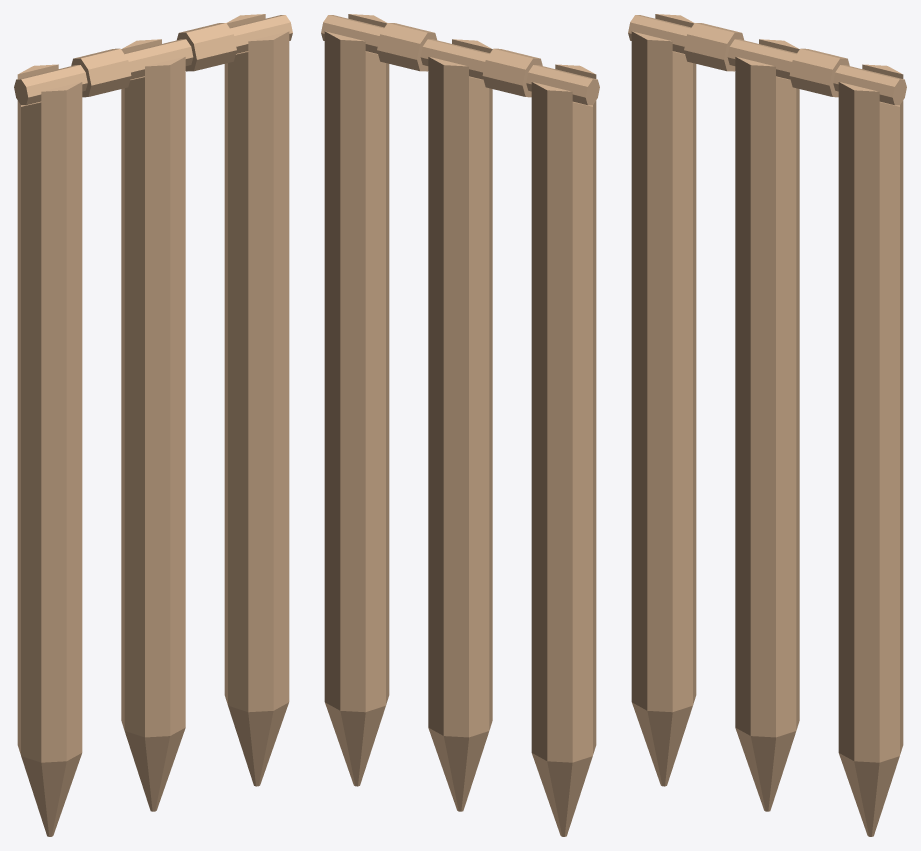
File: Cricket Stumps.fbx
The picture shows the model from 3 angles, left to right: view 1: azimuth 30°, elevation 25°; view 2: azimuth 150°, elevation 25°; view 3: azimuth 330°, elevation 25°; orthographic projection.
Parts seen in each view (by area): view 1: Cricket Stump 1, Cricket Stump 2, Cricket Stump 3, Cricket Bail; view 2: Cricket Stump 1, Cricket Stump 2, Cricket Stump 3, Cricket Bail; view 3: Cricket Stump 2, Cricket Stump 1, Cricket Stump 3, Cricket Bail.
Boxes of the visible parts, box(x1,y1,x2,y2) form: Cricket Stump 1: box(17, 64, 82, 836); Cricket Stump 2: box(224, 14, 289, 786); Cricket Stump 3: box(121, 39, 185, 811); Cricket Bail: box(14, 15, 292, 105); Cricket Stump 1: box(531, 64, 596, 836); Cricket Stump 2: box(324, 14, 389, 786); Cricket Stump 3: box(428, 39, 492, 811); Cricket Bail: box(321, 15, 599, 105); Cricket Stump 2: box(838, 64, 903, 836); Cricket Stump 1: box(631, 14, 696, 786); Cricket Stump 3: box(735, 39, 799, 811); Cricket Bail: box(628, 15, 906, 105).
Bounding box in the file's own units: 192 × 533 × 42.
